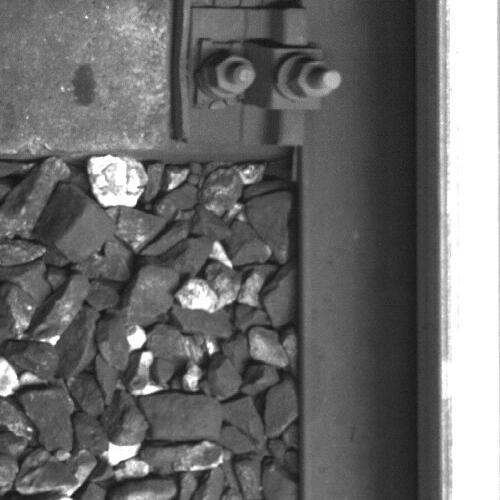kb: (184, 6, 342, 146)
nut: (291, 58, 341, 99), (211, 51, 258, 94)
rail: (439, 1, 500, 500)
tie_concr: (1, 1, 296, 155)
